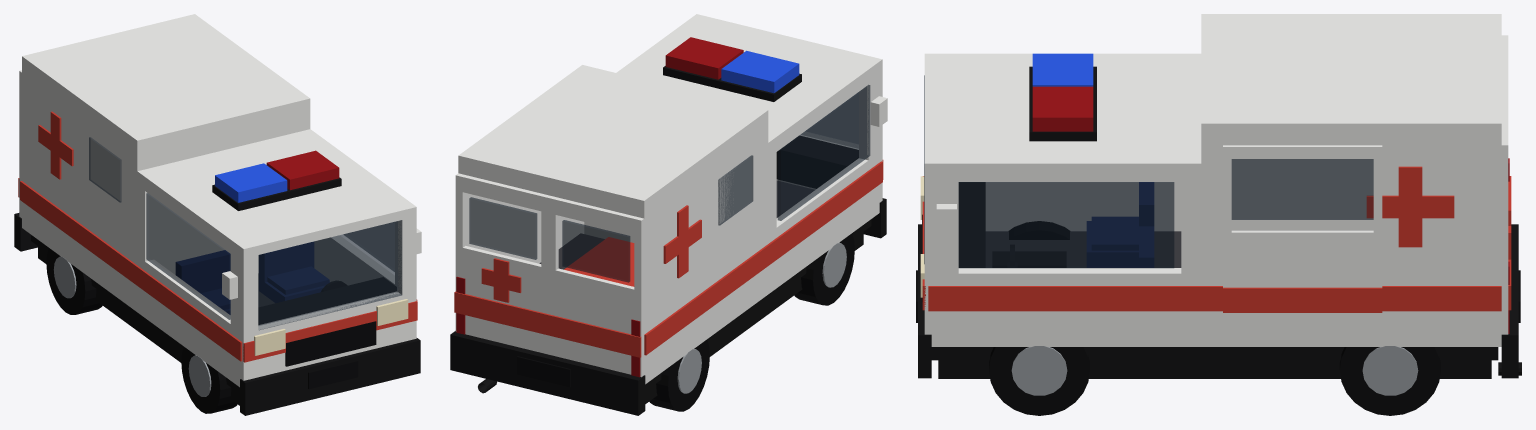
Rendered from ambulans.glb.
The picture shows the model from 3 angles, left to right: view 1: azimuth 30°, elevation 25°; view 2: azimuth 150°, elevation 25°; view 3: azimuth 270°, elevation 25°; orthographic projection. The views are drawn at different scales.
Visible parts, largest first — view 1: BoxRoof, BoxSide_L, CabRoof, Windshield, BoxFrontWall, Bumper_F, CabGlass_L, Stripe_L, CabSide_L, FrontPanel, Seat_FR, CabSide_R (+31 smaller); view 2: BoxRoof, BoxSide_L, Door_RearL, CabRoof, Door_RearR, Bumper_R, CabGlass_L, Stripe_L, CabSide_L, BoxSide_R, Door_RearR_Glass, Door_RearL_Glass (+34 smaller); view 3: BoxSide_R, BoxRoof, CabRoof, CabGlass_R, Door_Side, CabSide_R, Stripe_R, Door_Side_Glass, CabSide_L, Chassis, CabTopRail_R, FloorPan (+30 smaller).
Boxes of the visible parts, x1,y1,x2,y2 form: BoxRoof: (22, 14, 307, 147); BoxSide_L: (22, 57, 138, 309); CabRoof: (136, 130, 413, 256); Windshield: (258, 220, 401, 330); BoxFrontWall: (134, 96, 310, 311); Bumper_F: (240, 338, 420, 415); CabGlass_L: (146, 193, 230, 319); Stripe_L: (20, 181, 242, 361); CabSide_L: (134, 255, 238, 386); FrontPanel: (238, 291, 416, 387); Seat_FR: (259, 242, 329, 302); CabSide_R: (314, 235, 396, 286); BoxRoof: (458, 67, 765, 210); BoxSide_L: (639, 111, 765, 381); Door_RearL: (548, 196, 644, 377); CabRoof: (618, 15, 879, 143); Door_RearR: (455, 173, 550, 354); Bumper_R: (450, 331, 645, 415); CabGlass_L: (777, 85, 870, 220); Stripe_L: (644, 161, 882, 355); CabSide_L: (765, 154, 876, 296); BoxSide_R: (458, 67, 584, 263); Door_RearR_Glass: (469, 197, 537, 259); Door_RearL_Glass: (562, 220, 630, 282); BoxSide_R: (1208, 121, 1501, 346); BoxRoof: (1208, 14, 1501, 135); CabRoof: (928, 53, 1202, 175); CabGlass_R: (958, 182, 1174, 268); Door_Side: (1223, 145, 1382, 342); CabSide_R: (938, 268, 1208, 346); Stripe_R: (928, 286, 1501, 311); Door_Side_Glass: (1231, 159, 1373, 219); CabSide_L: (986, 182, 1181, 231); Chassis: (938, 360, 1491, 378); CabTopRail_R: (938, 158, 1208, 181); FloorPan: (931, 347, 1498, 360).
Bounding box in the file's own units: 0.854 × 0.958 × 1.8.
